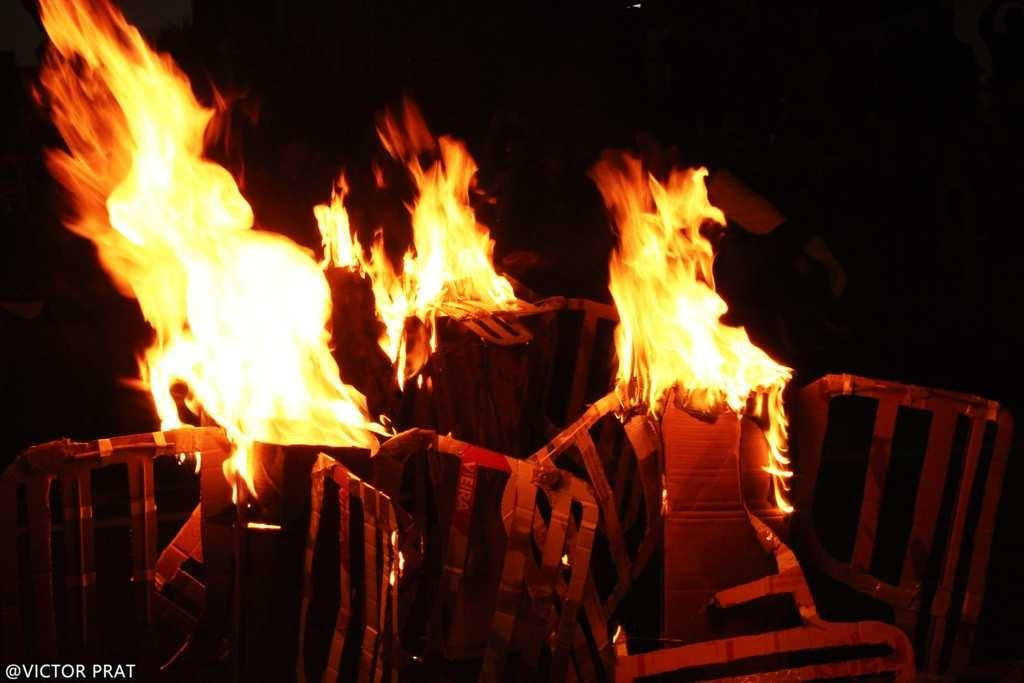fire: (163, 272, 327, 427), (627, 203, 728, 390), (115, 105, 205, 265), (415, 192, 480, 295)
